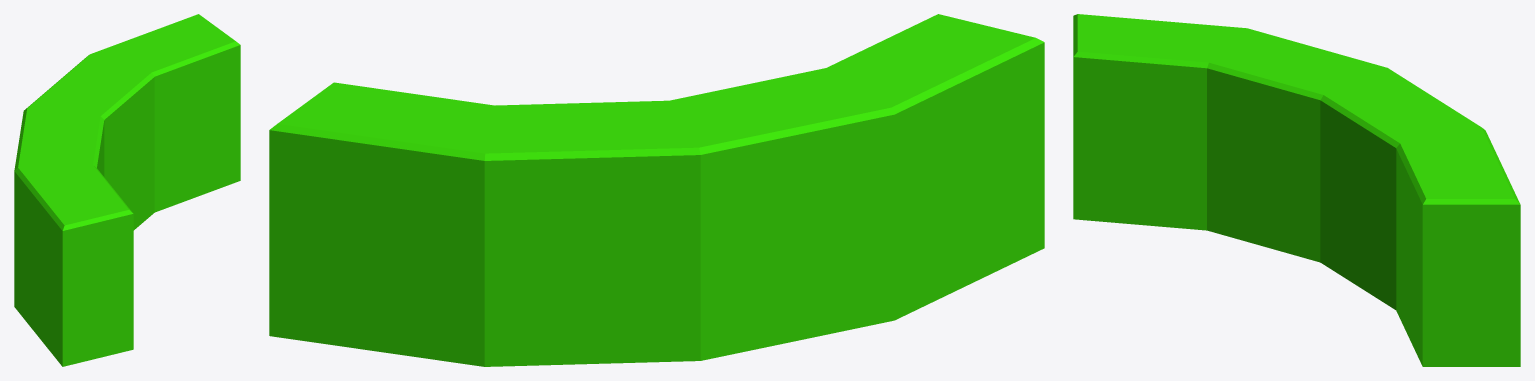
The picture shows the model from 3 angles, left to right: view 1: azimuth 30°, elevation 25°; view 2: azimuth 150°, elevation 25°; view 3: azimuth 270°, elevation 25°; orthographic projection. The views are drawn at different scales.
Parts seen in each view (by area): view 1: round_5x2_01; view 2: round_5x2_01; view 3: round_5x2_01.
Part boxes in pixels (x1=…): round_5x2_01: x1=14, y1=14, x2=240, y2=366; round_5x2_01: x1=269, y1=14, x2=1044, y2=366; round_5x2_01: x1=1073, y1=14, x2=1520, y2=366.
Size of the model in its own units: 5.12 by 2.1 by 5.12.
